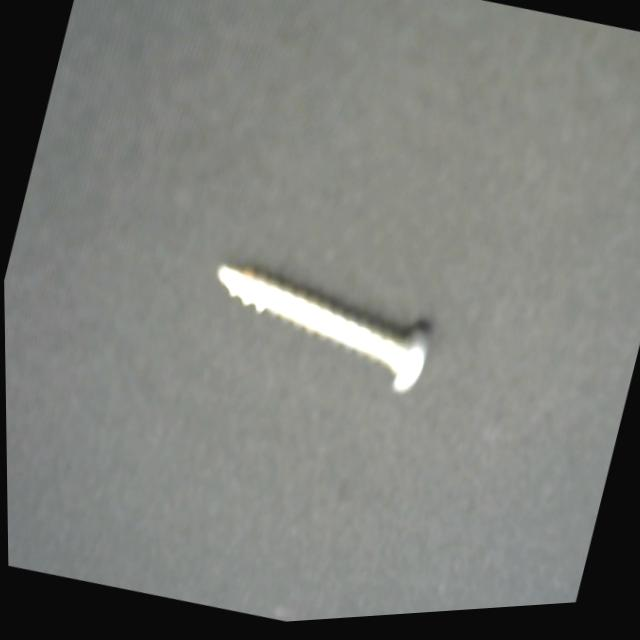SheetMetalScrew: (186, 221, 457, 425)
